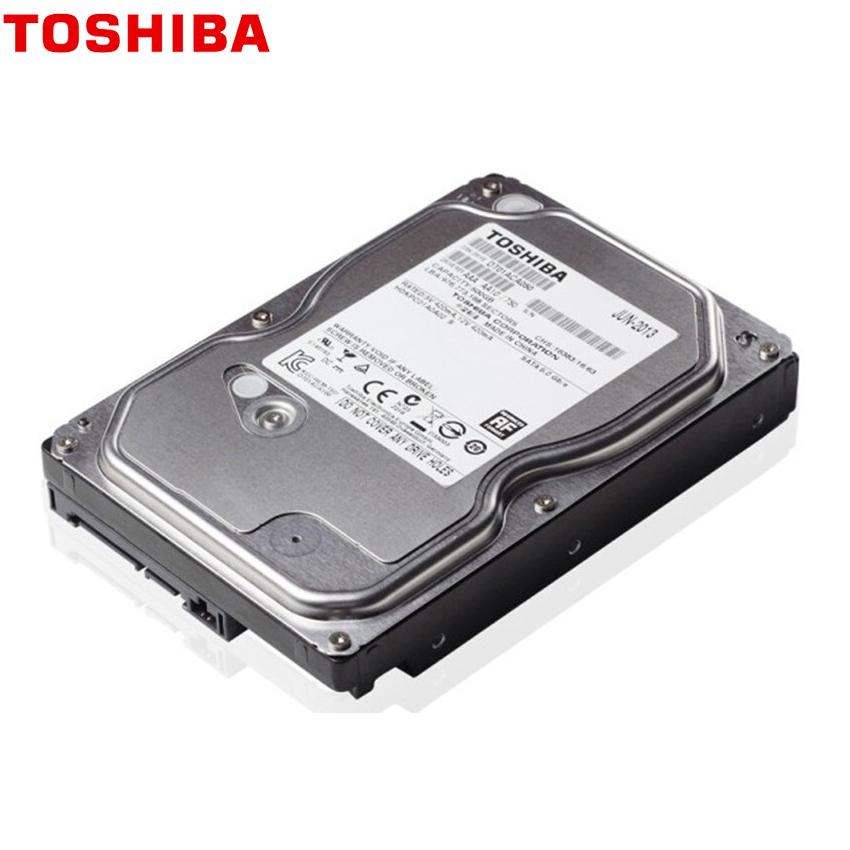internal HDD: (41, 175, 800, 696)
